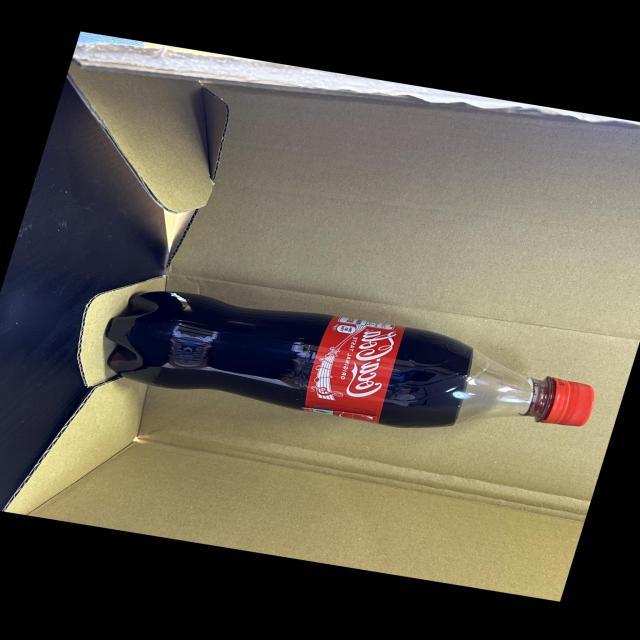high: (104, 289, 592, 427)
